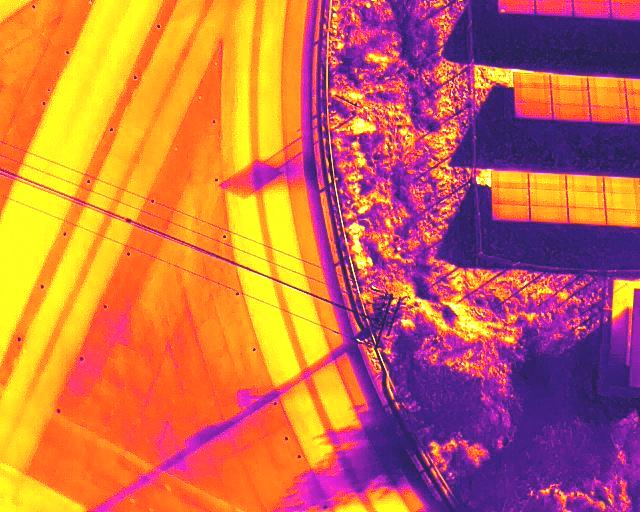Cell: (498, 0, 535, 14)
No-Anomaly: (491, 205, 528, 223), (551, 74, 589, 91), (574, 0, 609, 18), (513, 71, 550, 88), (492, 172, 529, 189), (568, 208, 606, 224), (529, 207, 567, 223), (567, 176, 604, 192), (529, 190, 566, 206), (591, 107, 630, 122), (567, 191, 603, 207), (551, 91, 589, 106), (552, 106, 590, 121), (491, 189, 529, 204), (589, 92, 627, 107), (589, 76, 627, 91), (515, 88, 550, 104), (536, 0, 573, 15), (529, 174, 566, 189), (604, 177, 636, 194), (515, 104, 551, 119), (604, 194, 637, 210), (605, 210, 638, 226), (611, 0, 640, 18)
